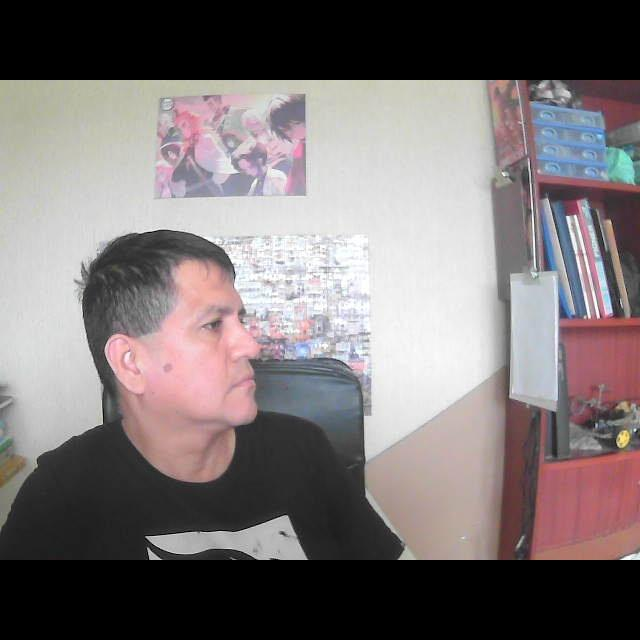cesar: (52, 217, 296, 501)
